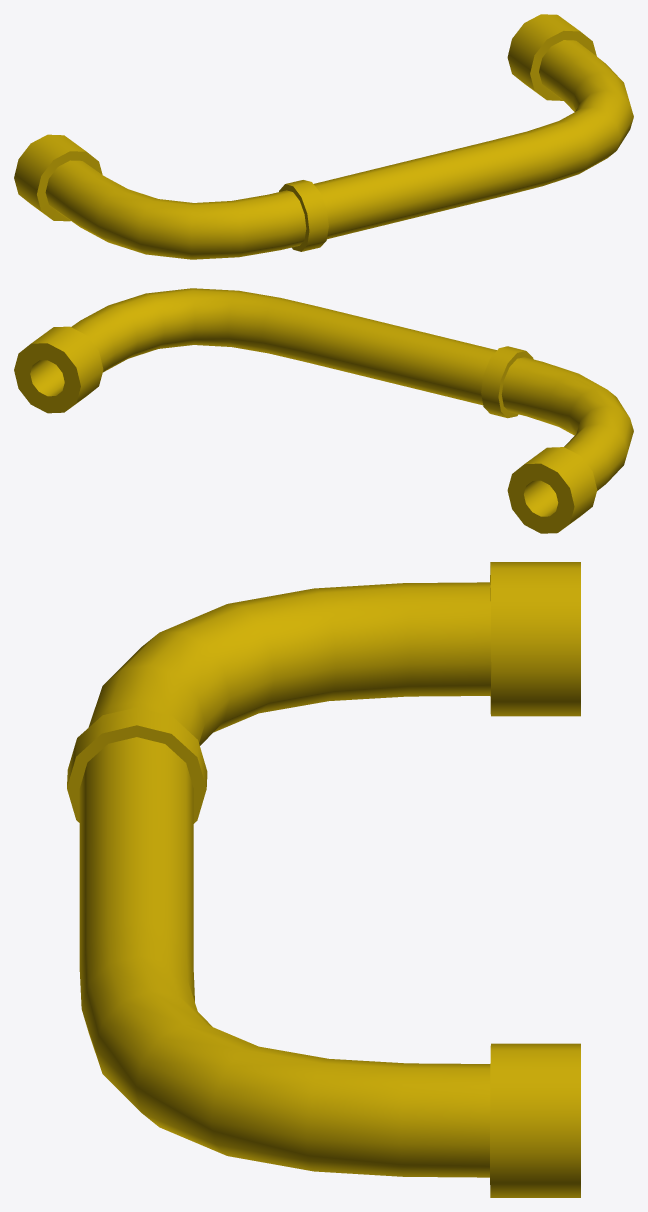
File: pipe3.fbx
The picture shows the model from 3 angles, top to bottom: view 1: azimuth 30°, elevation 25°; view 2: azimuth 150°, elevation 25°; view 3: azimuth 270°, elevation 25°; orthographic projection. The views are drawn at different scales.
Parts seen in each view (by area): view 1: Cube.001; view 2: Cube.001; view 3: Cube.001.
Boxes of the visible parts, x1=… form: Cube.001: x1=14, y1=14, x2=633, y2=259; Cube.001: x1=14, y1=288, x2=633, y2=533; Cube.001: x1=67, y1=562, x2=580, y2=1197.
Size of the model in its own units: 90.25 by 227 by 27.17.
